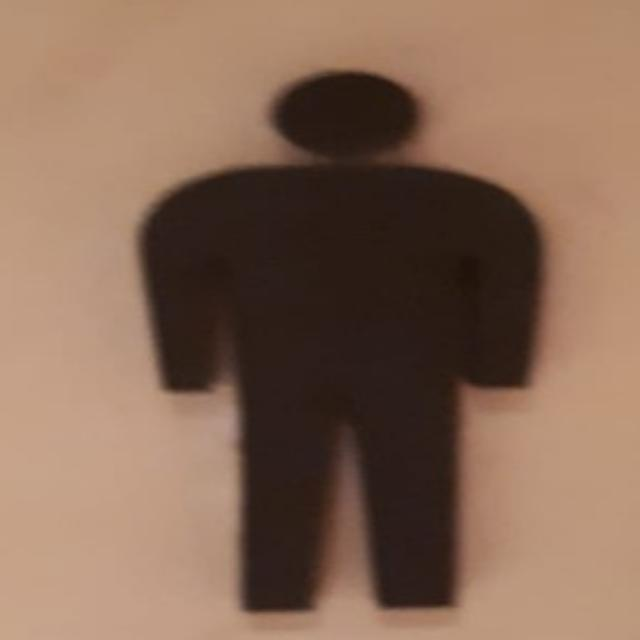mens_restroom: (0, 0, 638, 638)
